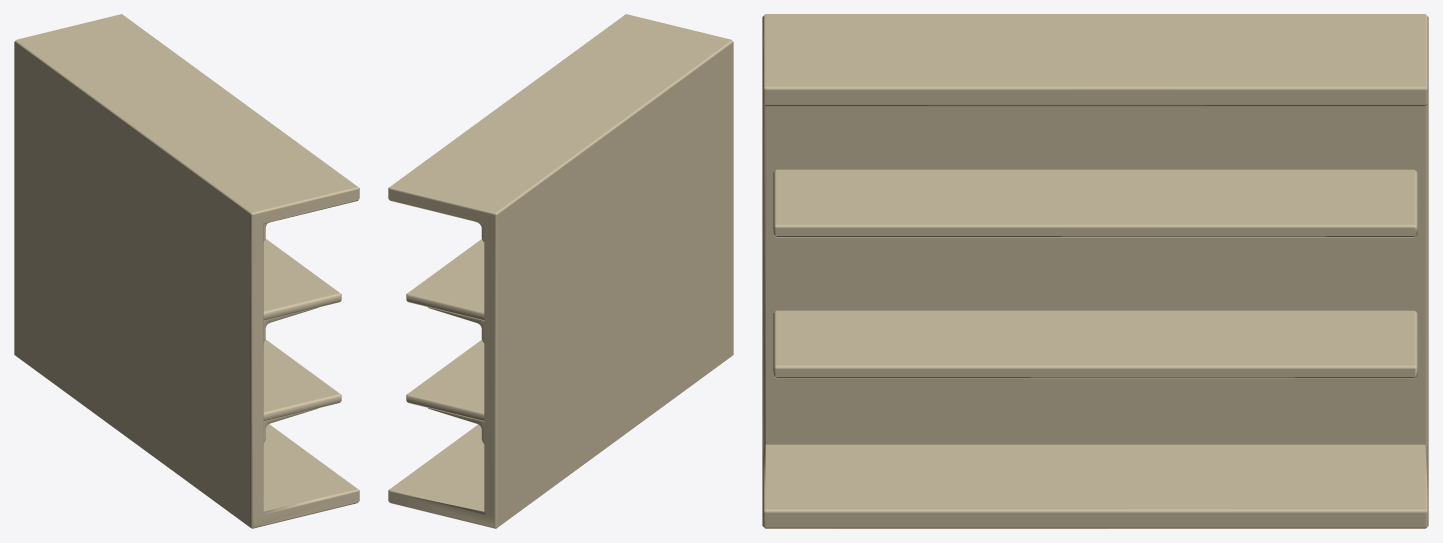
Rendered from PrateleiraModel.fbx.
3 renders of one model, left to right at view 1: azimuth 30°, elevation 25°; view 2: azimuth 150°, elevation 25°; view 3: azimuth 270°, elevation 25°, orthographic. The views are drawn at different scales.
Parts seen in each view (by area): view 1: CorpoSoloPrateleira.002; view 2: CorpoSoloPrateleira.002; view 3: CorpoSoloPrateleira.002.
Part boxes in pixels (box(x1,y1,x2,y2)): CorpoSoloPrateleira.002: box(14, 14, 359, 528); CorpoSoloPrateleira.002: box(388, 14, 733, 528); CorpoSoloPrateleira.002: box(762, 14, 1428, 528).
Size of the model in its own units: 79.81 by 220 by 300.
